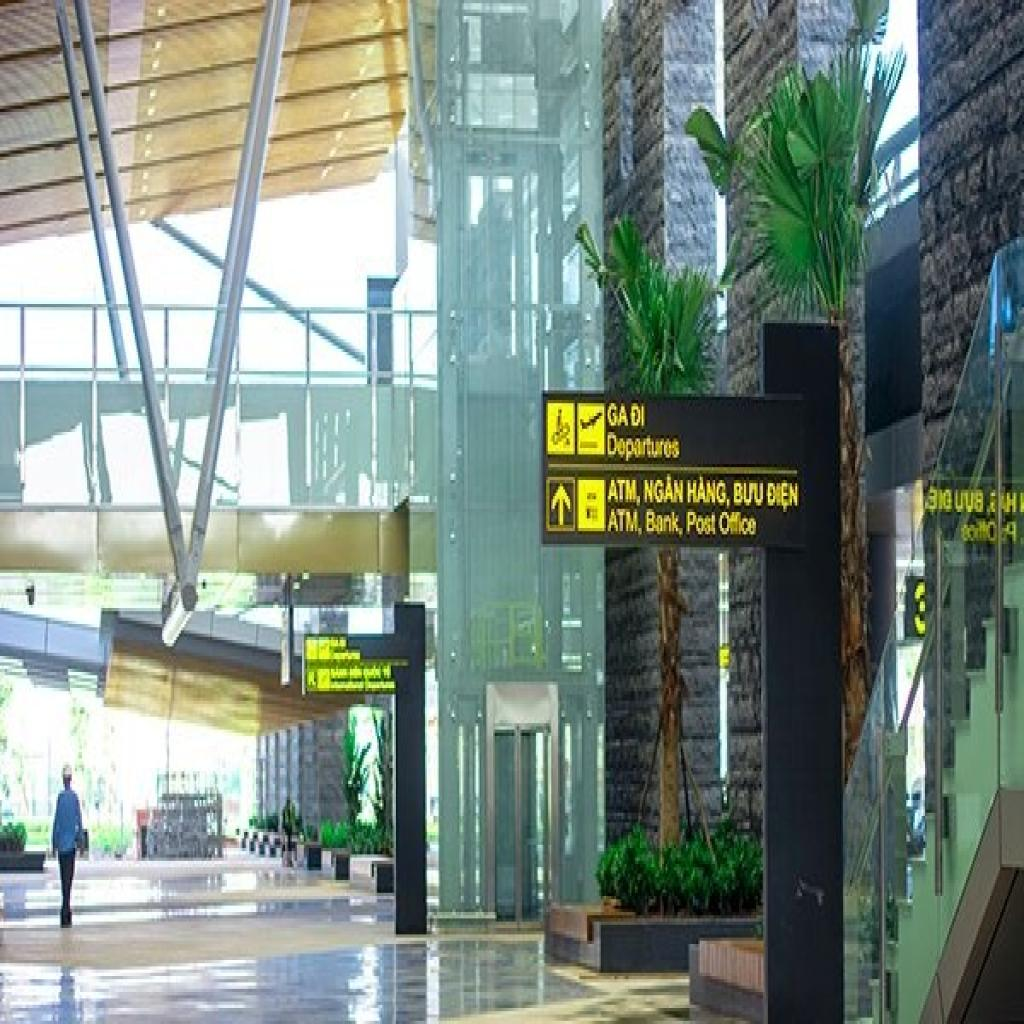text: (606, 432, 683, 467), (684, 470, 734, 512), (642, 467, 686, 509), (643, 509, 686, 544), (606, 506, 645, 544), (764, 477, 800, 518), (606, 474, 643, 512), (684, 506, 720, 544), (717, 509, 759, 541), (730, 480, 766, 512), (952, 486, 986, 518), (923, 486, 954, 518), (606, 400, 631, 432), (628, 400, 649, 435)
